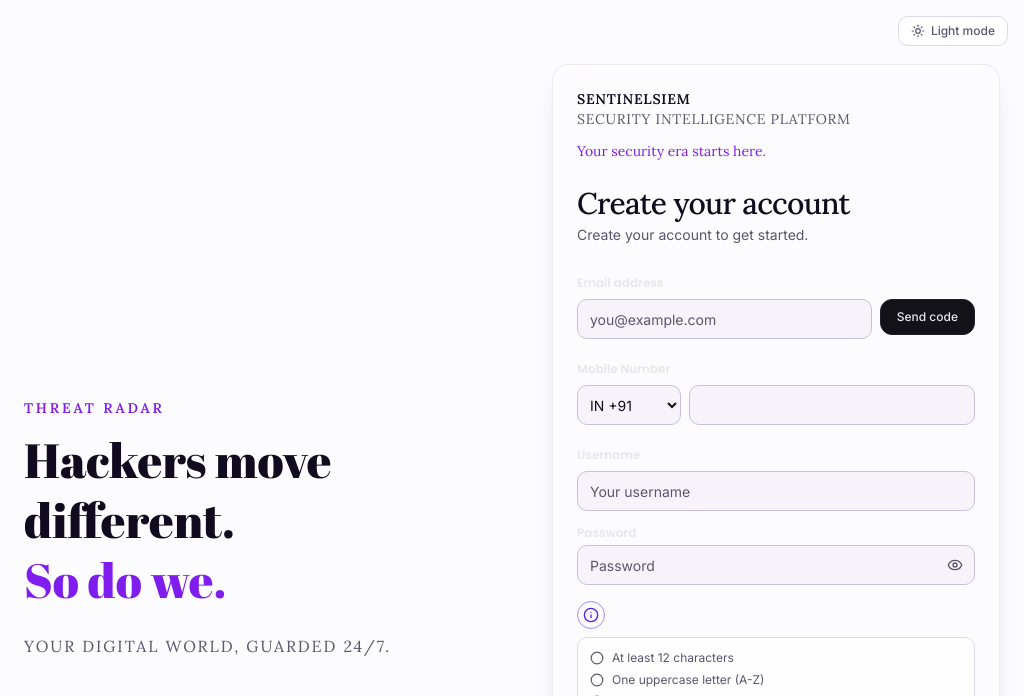
Test case: Register page › shows a backend error for the code and stays on the page
The width and height of the screenshot is (1024, 696).
Step 1. Type "alice@example.com" into the field labelled "Email address" → (724, 319), box [577,299,872,339]
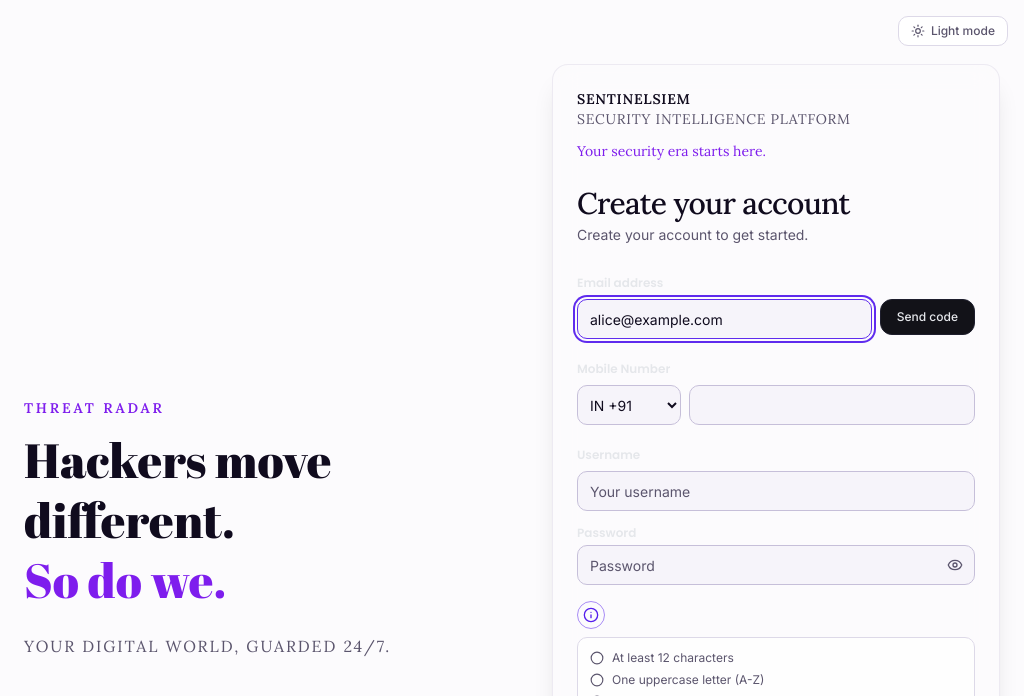
Step 2. Click the button "Send code" → (927, 317), box [880,299,975,335]
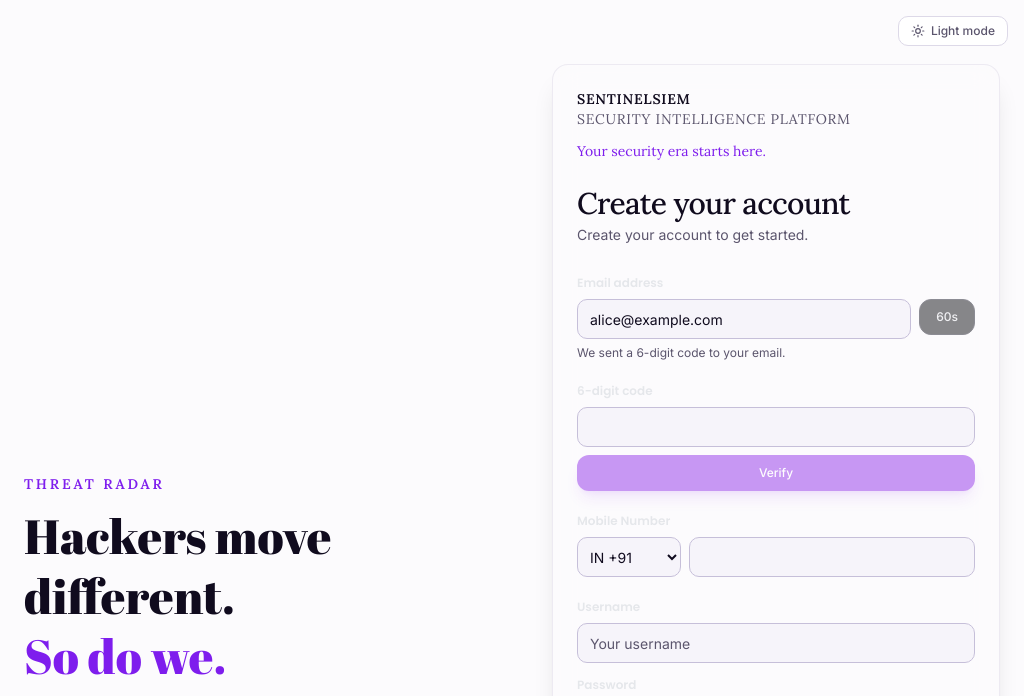
Step 3. Type "123456" into the field labelled "6-digit code" → (776, 427), box [577,407,975,447]
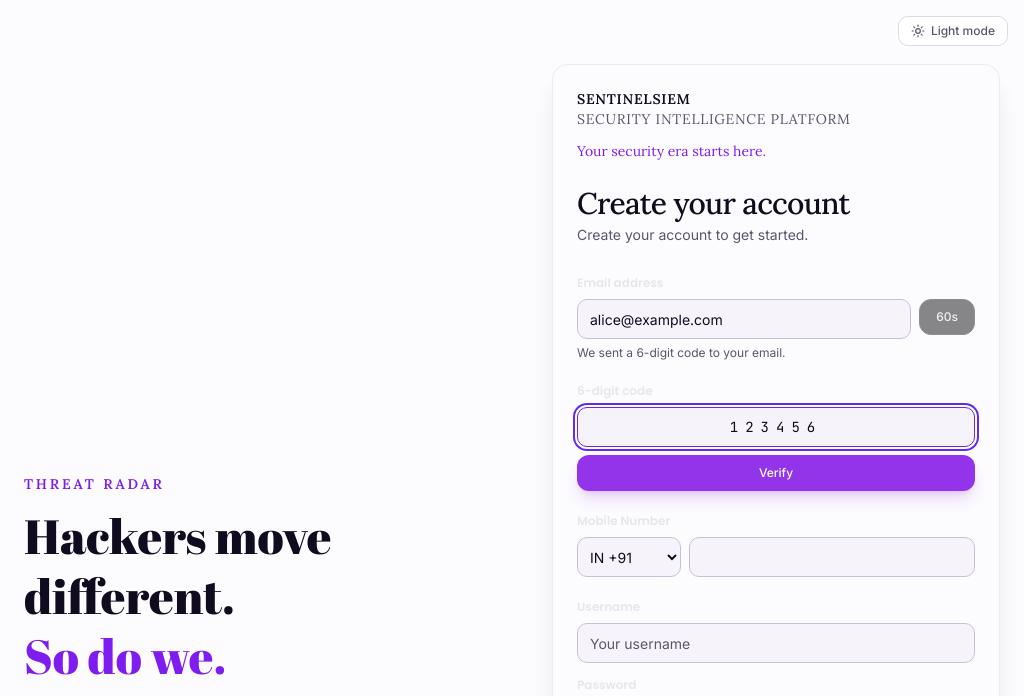
Step 4. Click the button "Verify" → (776, 473), box [577,455,975,491]
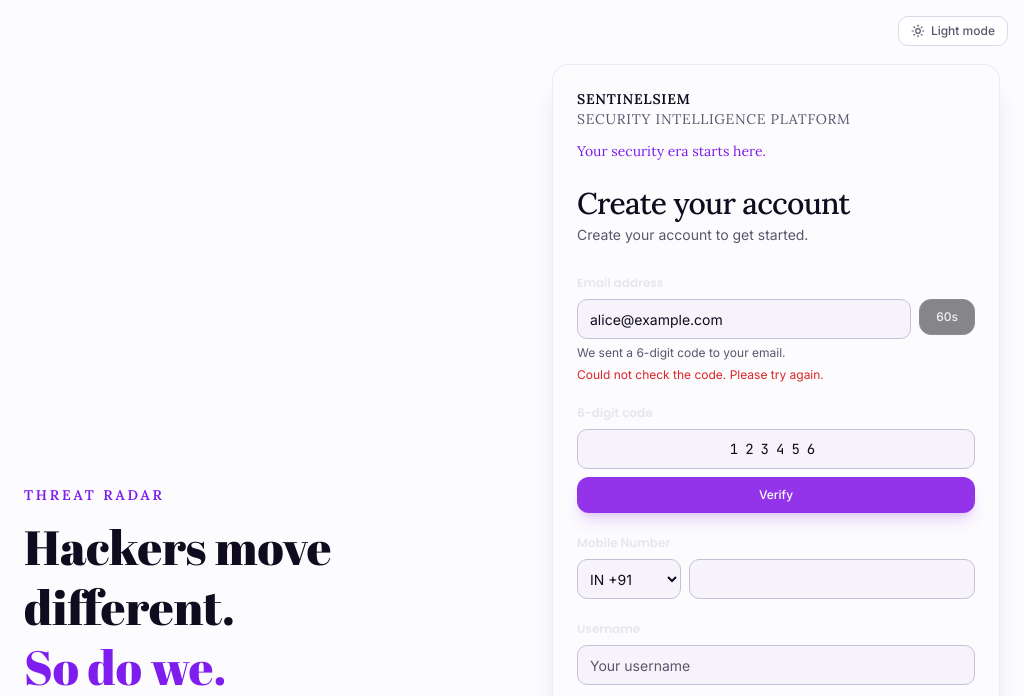
Expected: the message "Could not check the code. Please try again." is shown, [577,367,824,382]
